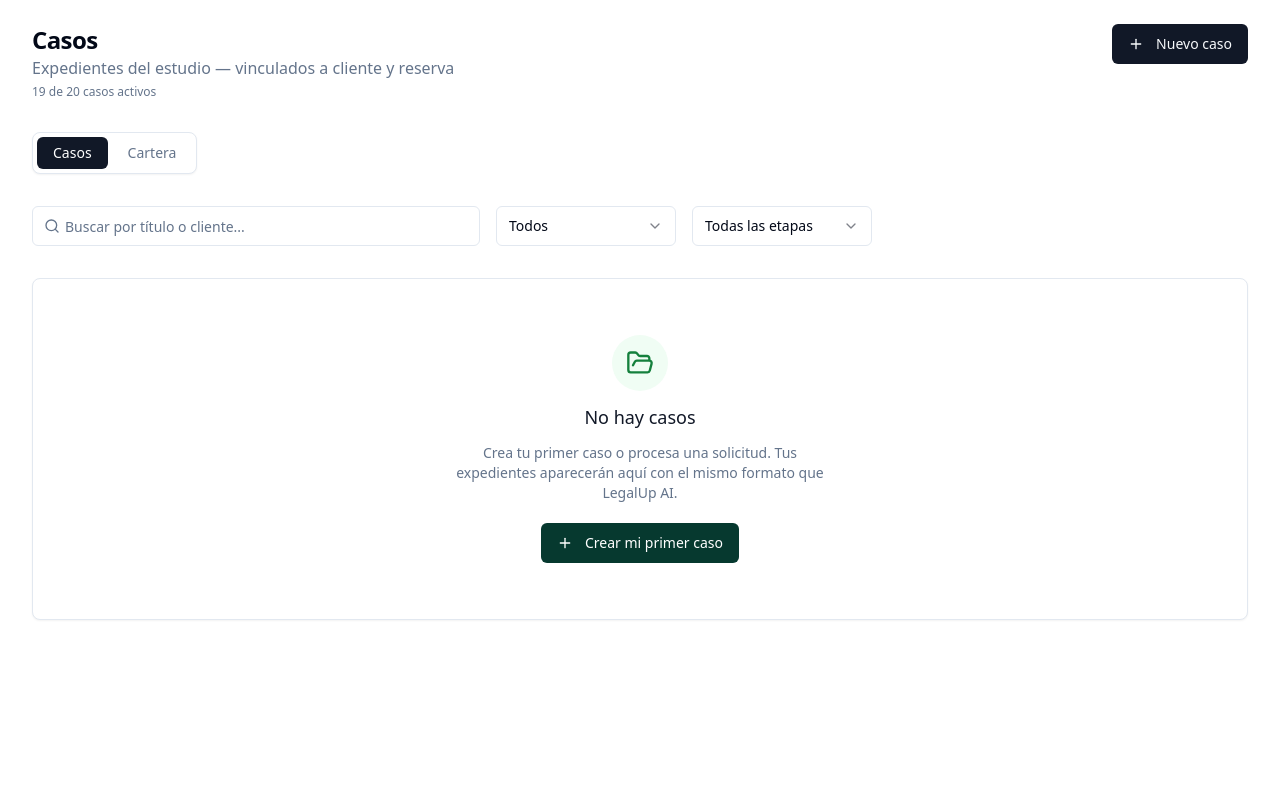
4.36D — CasesPage capacity gates › Pro 19/20 → New Case opens the dialog + capacity indicator visible
Click the button "Nuevo caso". click: x=1180, y=44
box: [1112, 24, 1248, 64]
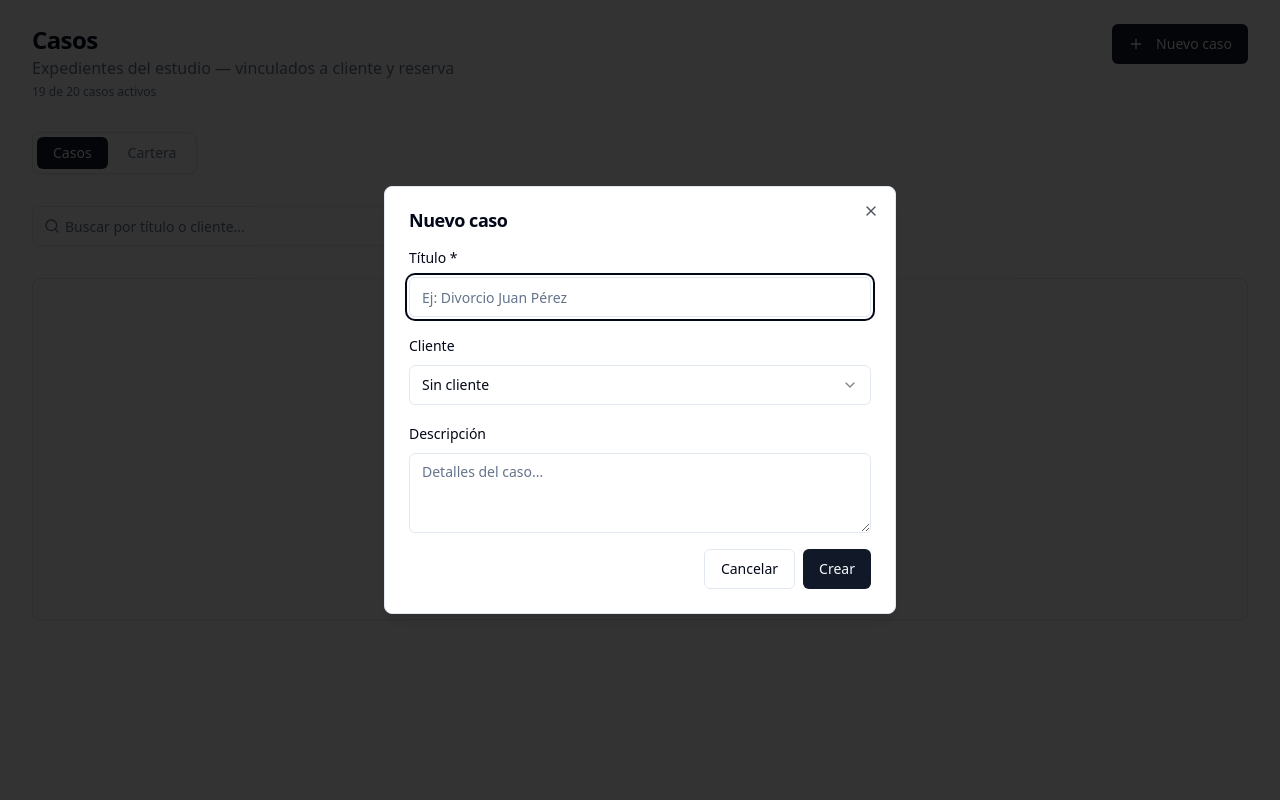
Expected: the text "19 de 20 casos activos" is shown, [32, 83, 156, 100]
Expected: the dialog "Nuevo caso" is shown, [384, 186, 896, 614]
